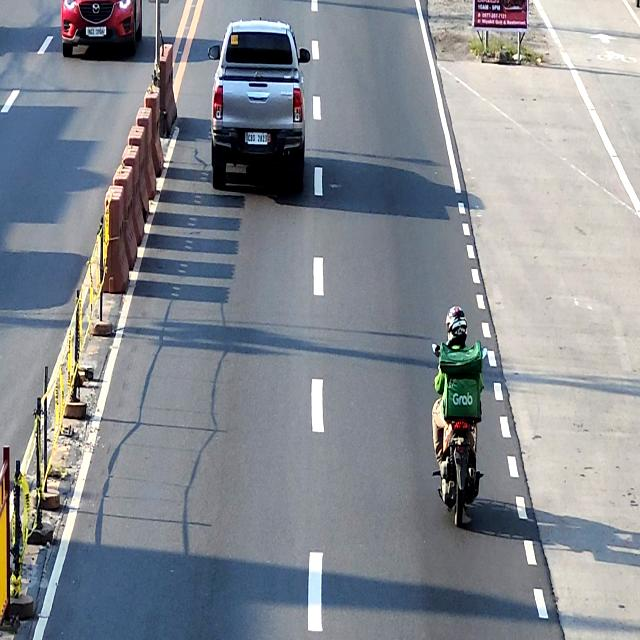Car: (209, 21, 310, 192), (61, 0, 143, 59)
License-Plate: (247, 132, 268, 145), (86, 28, 106, 36)
Motorcycle: (432, 341, 488, 525)
